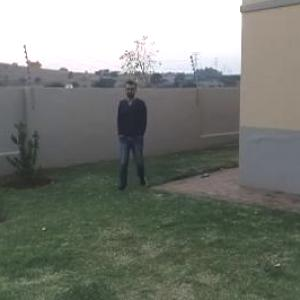follow: (114, 76, 153, 192)
